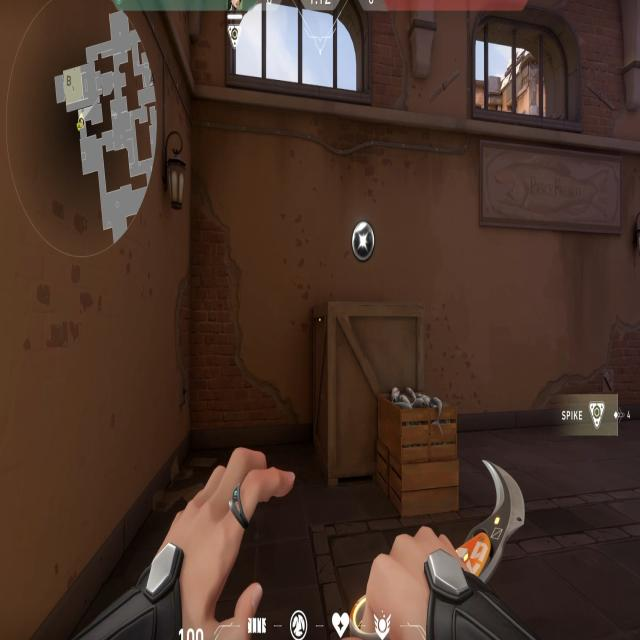B_Main_Wallbang: (307, 199, 465, 526)
Throwables: (209, 0, 391, 113), (453, 7, 594, 139)
